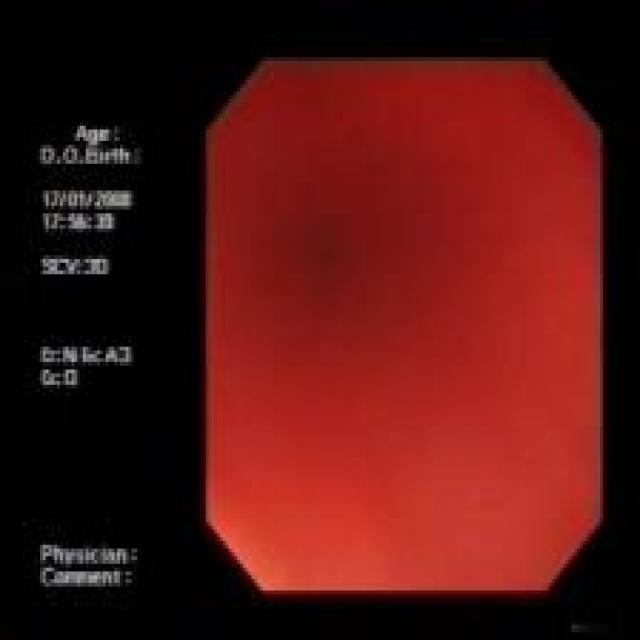color misalignment: (206, 60, 601, 590), (38, 120, 144, 591)
